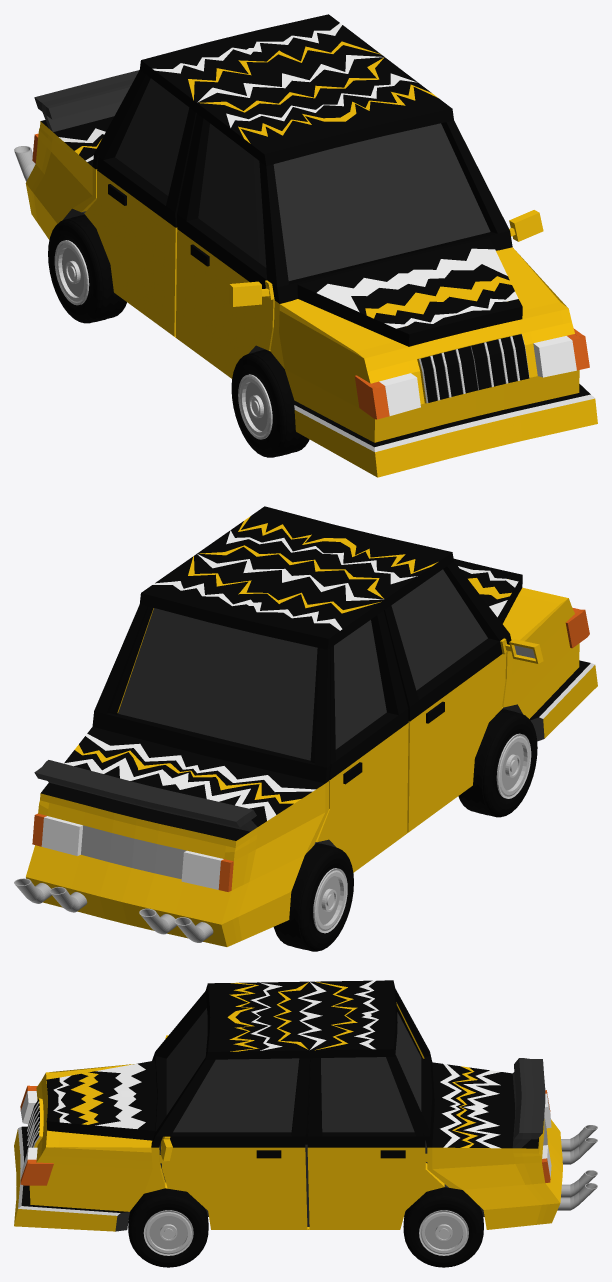
The picture shows the model from 3 angles, top to bottom: view 1: azimuth 30°, elevation 25°; view 2: azimuth 150°, elevation 25°; view 3: azimuth 270°, elevation 25°; orthographic projection. The views are drawn at different scales.
Parts seen in each view (by area): view 1: BODY, WHEEL.004, WHEEL.001; view 2: BODY, WHEEL.004, WHEEL.001; view 3: BODY, WHEEL.002, WHEEL.003.
Part boxes in pixels (x1=…): BODY: x1=14, y1=14, x2=597, y2=477; WHEEL.004: x1=48, y1=214, x2=126, y2=323; WHEEL.001: x1=231, y1=349, x2=309, y2=457; BODY: x1=14, y1=506, x2=597, y2=946; WHEEL.004: x1=273, y1=843, x2=353, y2=951; WHEEL.001: x1=458, y1=709, x2=537, y2=817; BODY: x1=14, y1=980, x2=597, y2=1231; WHEEL.002: x1=403, y1=1187, x2=483, y2=1267; WHEEL.003: x1=128, y1=1188, x2=208, y2=1267.
Bounding box in the file's own units: 131 × 112 × 284.
